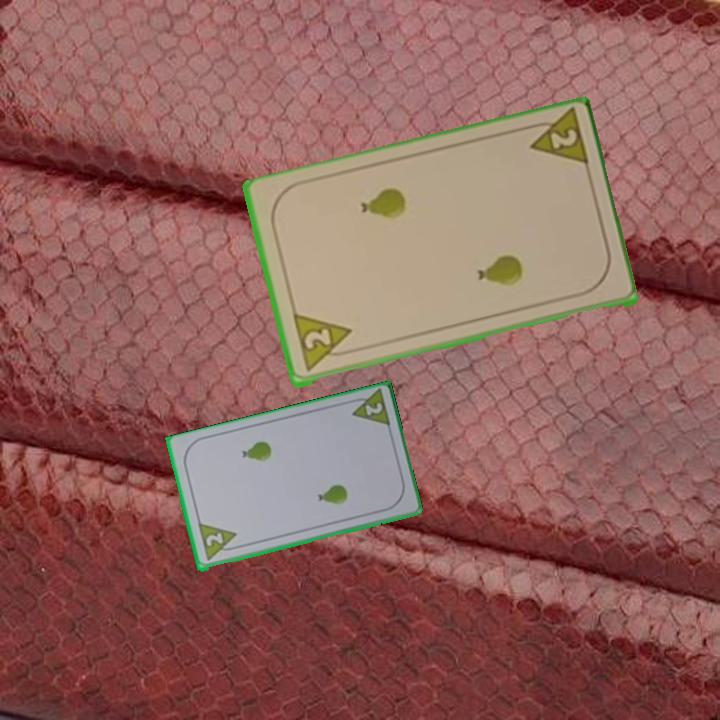2p: (520, 108, 592, 172), (289, 312, 358, 375), (202, 529, 226, 550), (361, 399, 385, 419)
